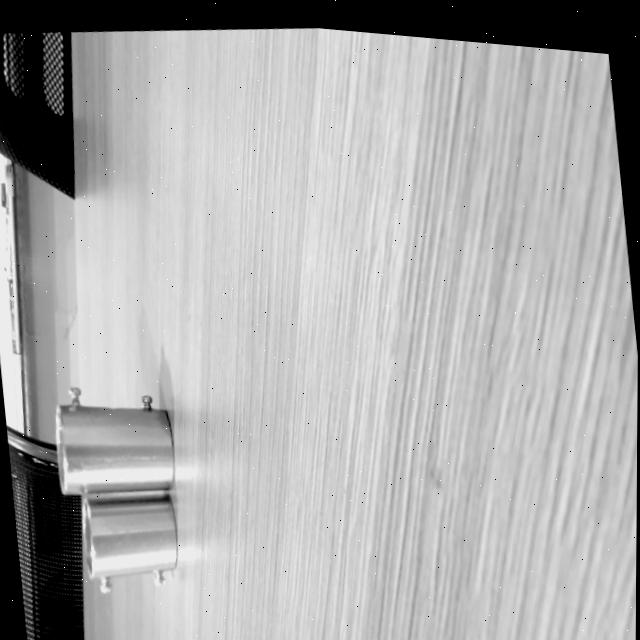Co_Lon: (53, 381, 175, 495)
Co_Nho: (80, 491, 179, 594)
